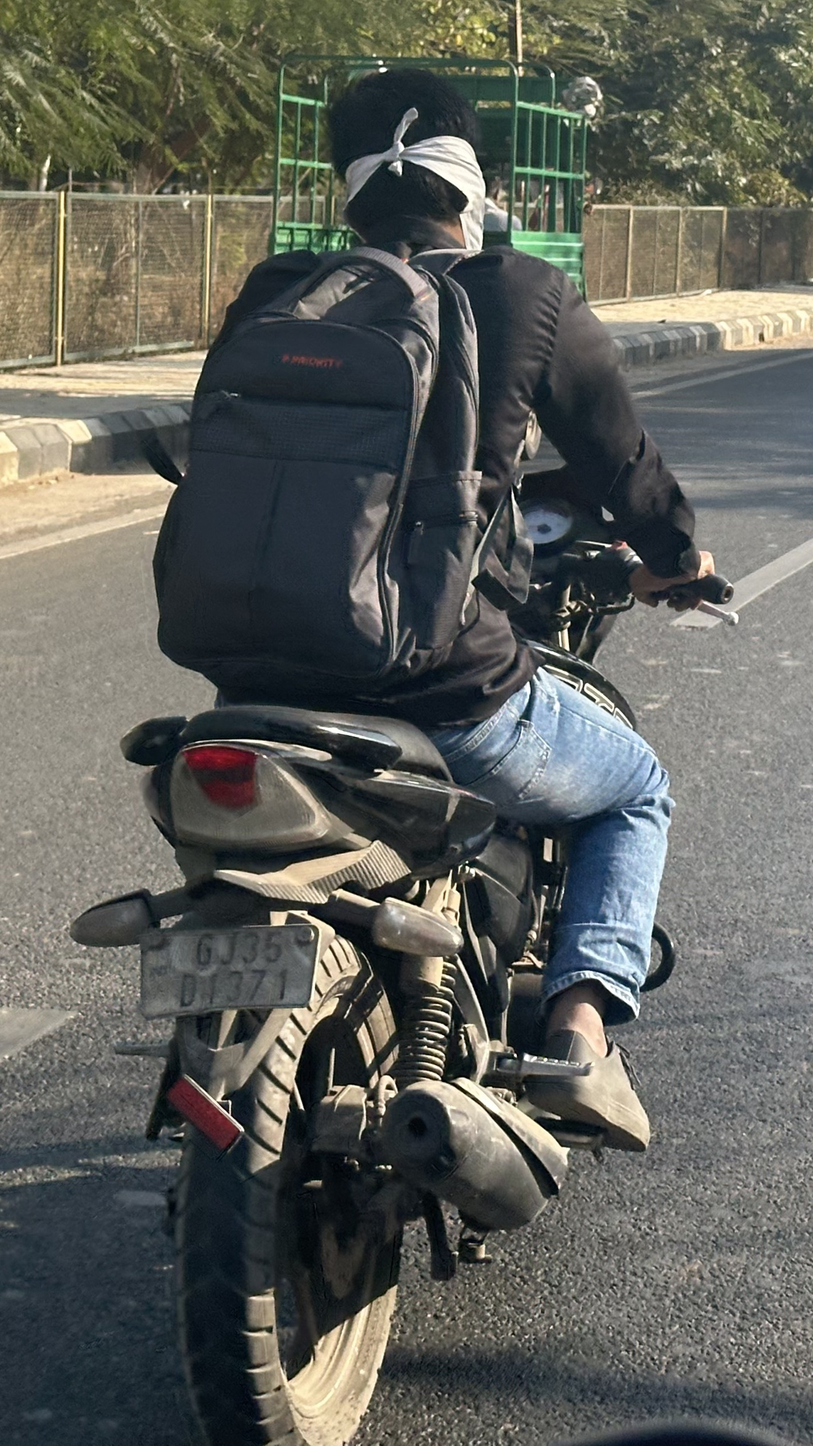BikeWithRider: (54, 46, 755, 1444)
NoHelmet: (306, 54, 515, 274)
